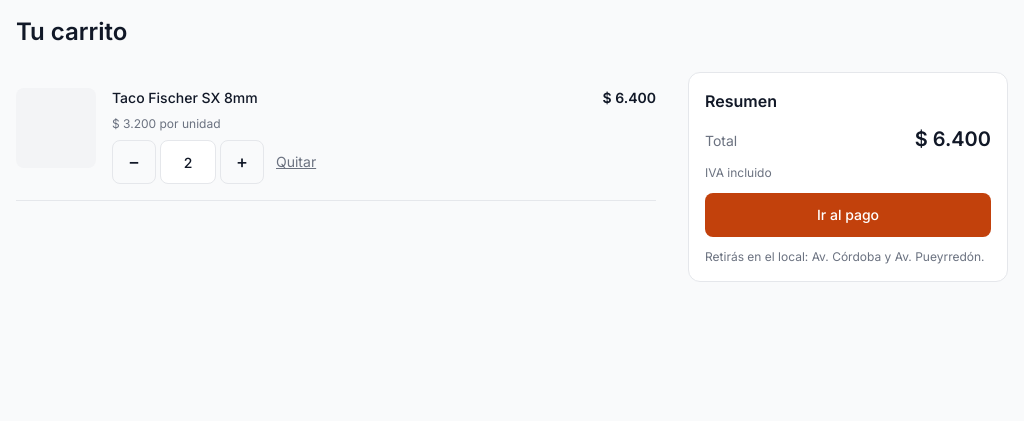
Test case: CartPage — los cuatro estados (§11.9) › una mutación fallida deja el error a la vista SIN borrar las líneas
The image size is (1024, 421).
Expected: the list item is shown, left=16, top=72, right=656, bottom=201
Click the button "Quitar" at (296, 162), box left=276, top=140, right=316, bottom=184
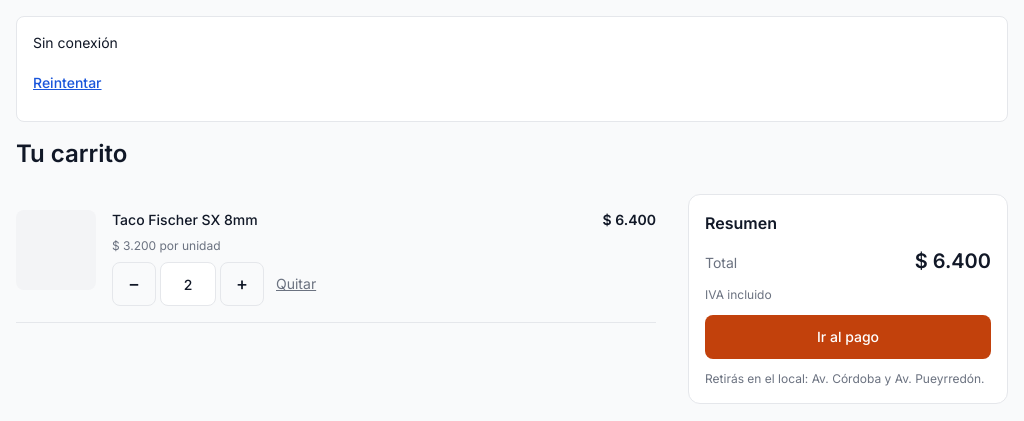
Expected: the text "Taco Fischer SX 8mm" is shown, left=112, top=210, right=258, bottom=230
Expected: the message shows "Sin conexión", left=33, top=34, right=118, bottom=51
